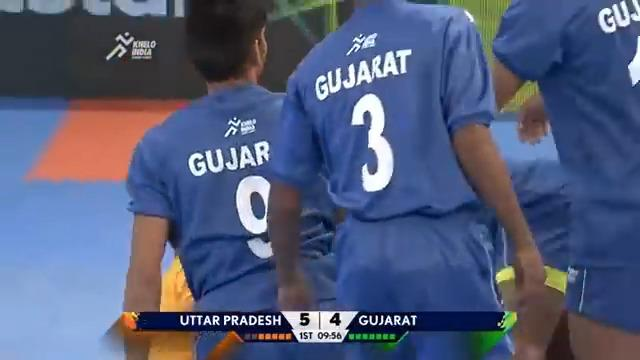Player: (266, 0, 547, 358), (120, 0, 337, 356)
referee: (490, 0, 639, 358)
